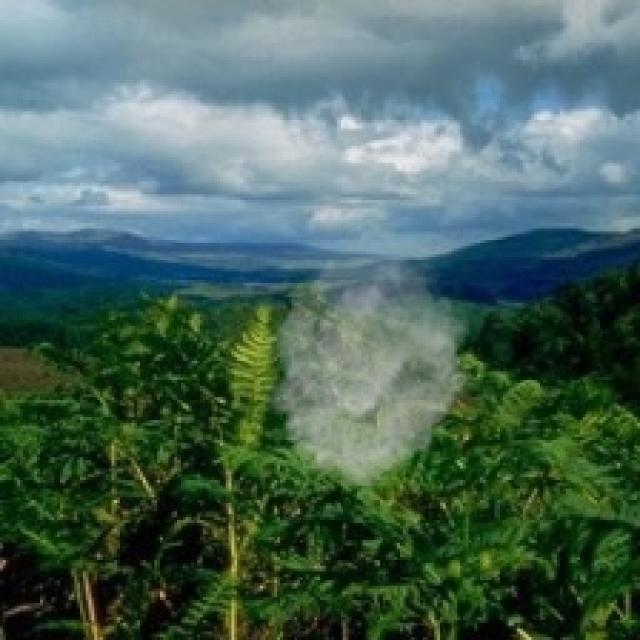smoke: (260, 257, 477, 486)
